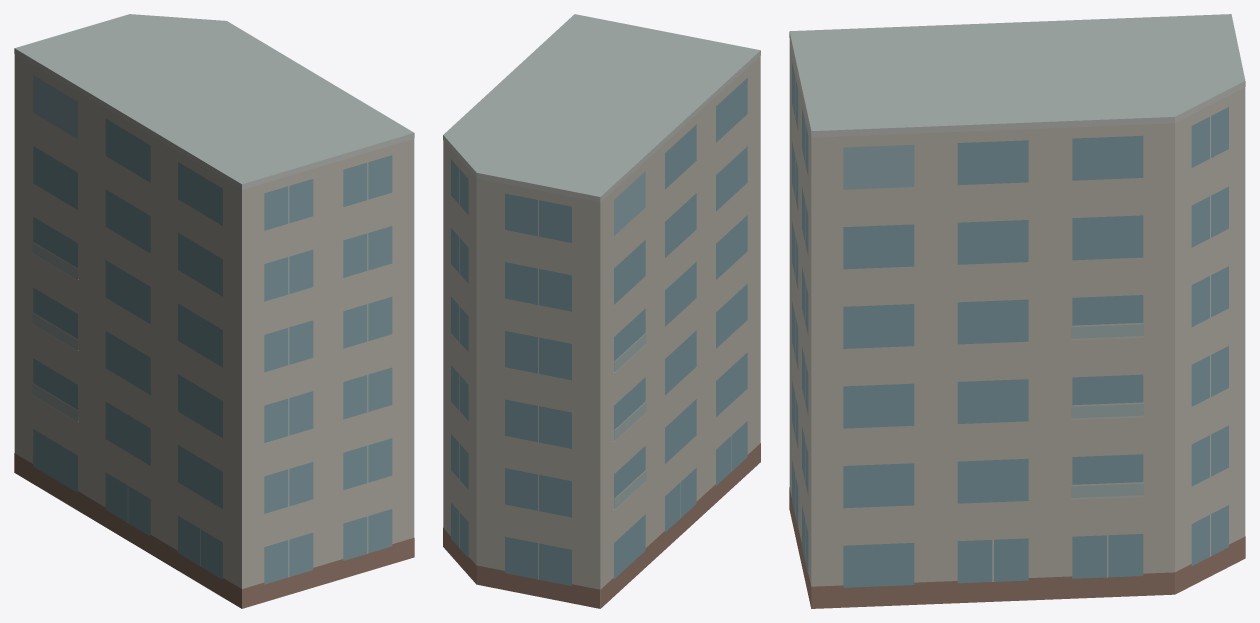
Rendered from survey-upis-32759630.glb.
3 renders of one model, left to right at view 1: azimuth 30°, elevation 25°; view 2: azimuth 150°, elevation 25°; view 3: azimuth 270°, elevation 25°, orthographic. The views are drawn at different scales.
Visible parts, largest first — view 1: survey-upis-32759630.tmp; view 2: survey-upis-32759630.tmp; view 3: survey-upis-32759630.tmp.
Boxes of the visible parts, x1,y1,x2,y2 form: survey-upis-32759630.tmp: [14, 14, 414, 608]; survey-upis-32759630.tmp: [443, 14, 760, 608]; survey-upis-32759630.tmp: [789, 14, 1245, 608].
Size of the model in its own units: 9.63 by 18.3 by 15.84.
